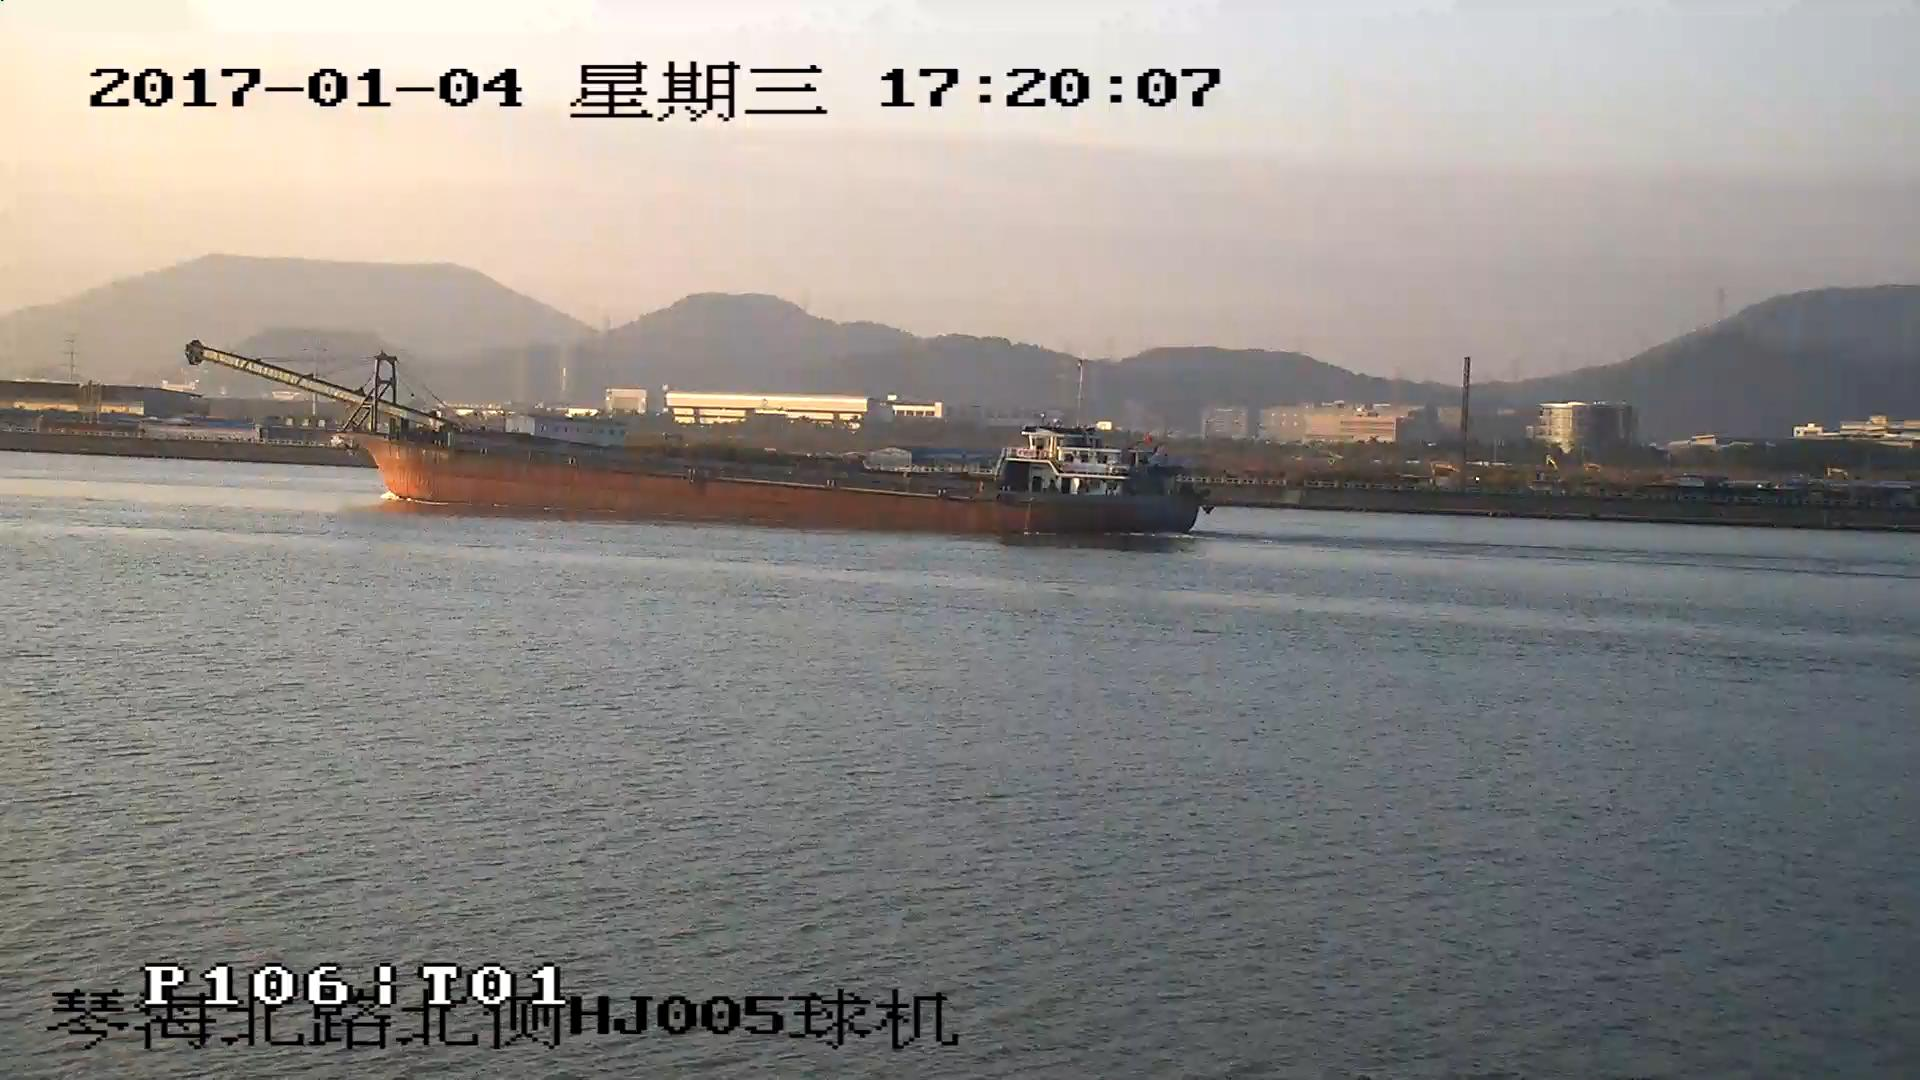bulk cargo carrier: (191, 342, 1206, 533)
